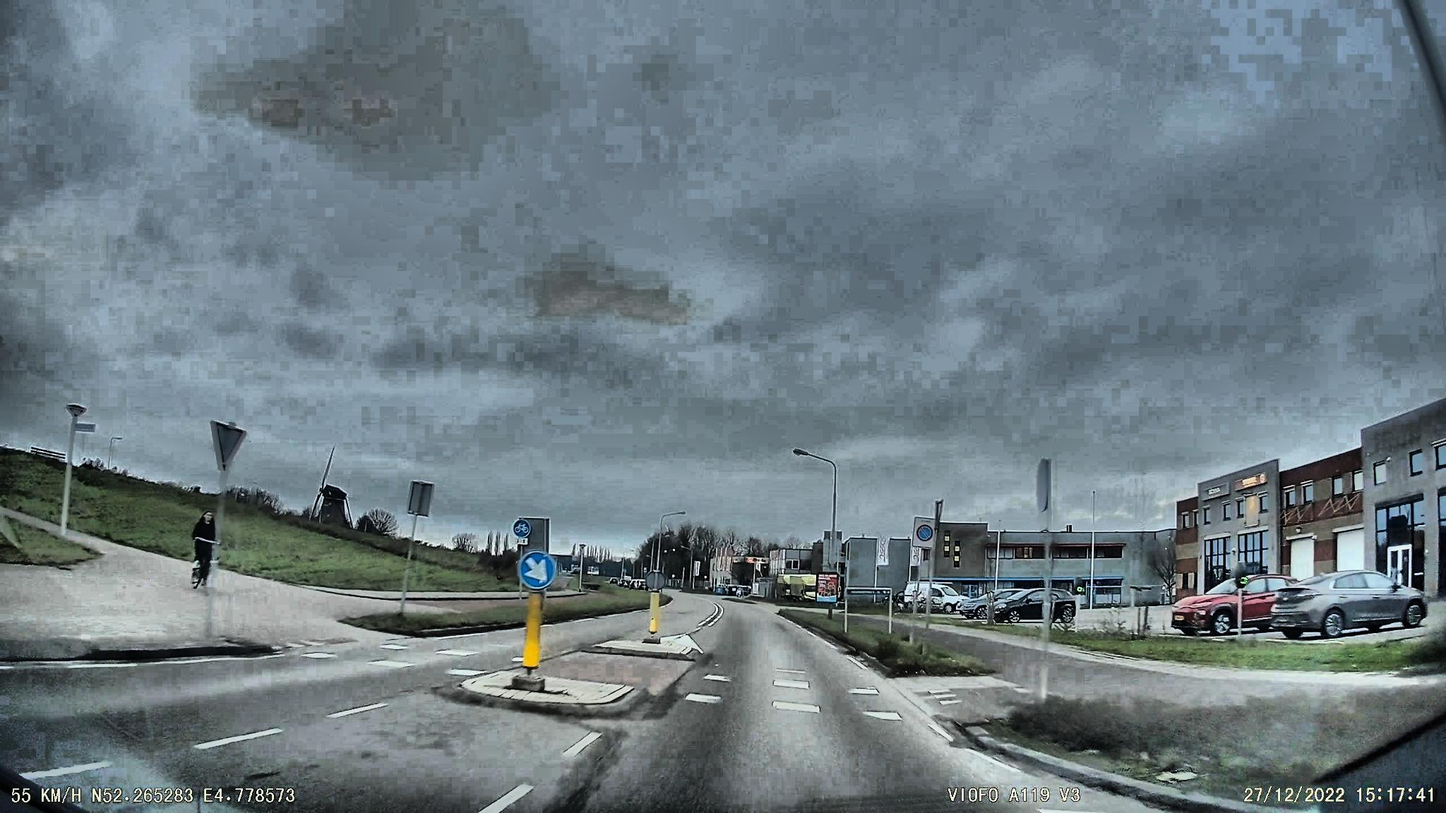Roads: (0, 602, 1167, 813)
